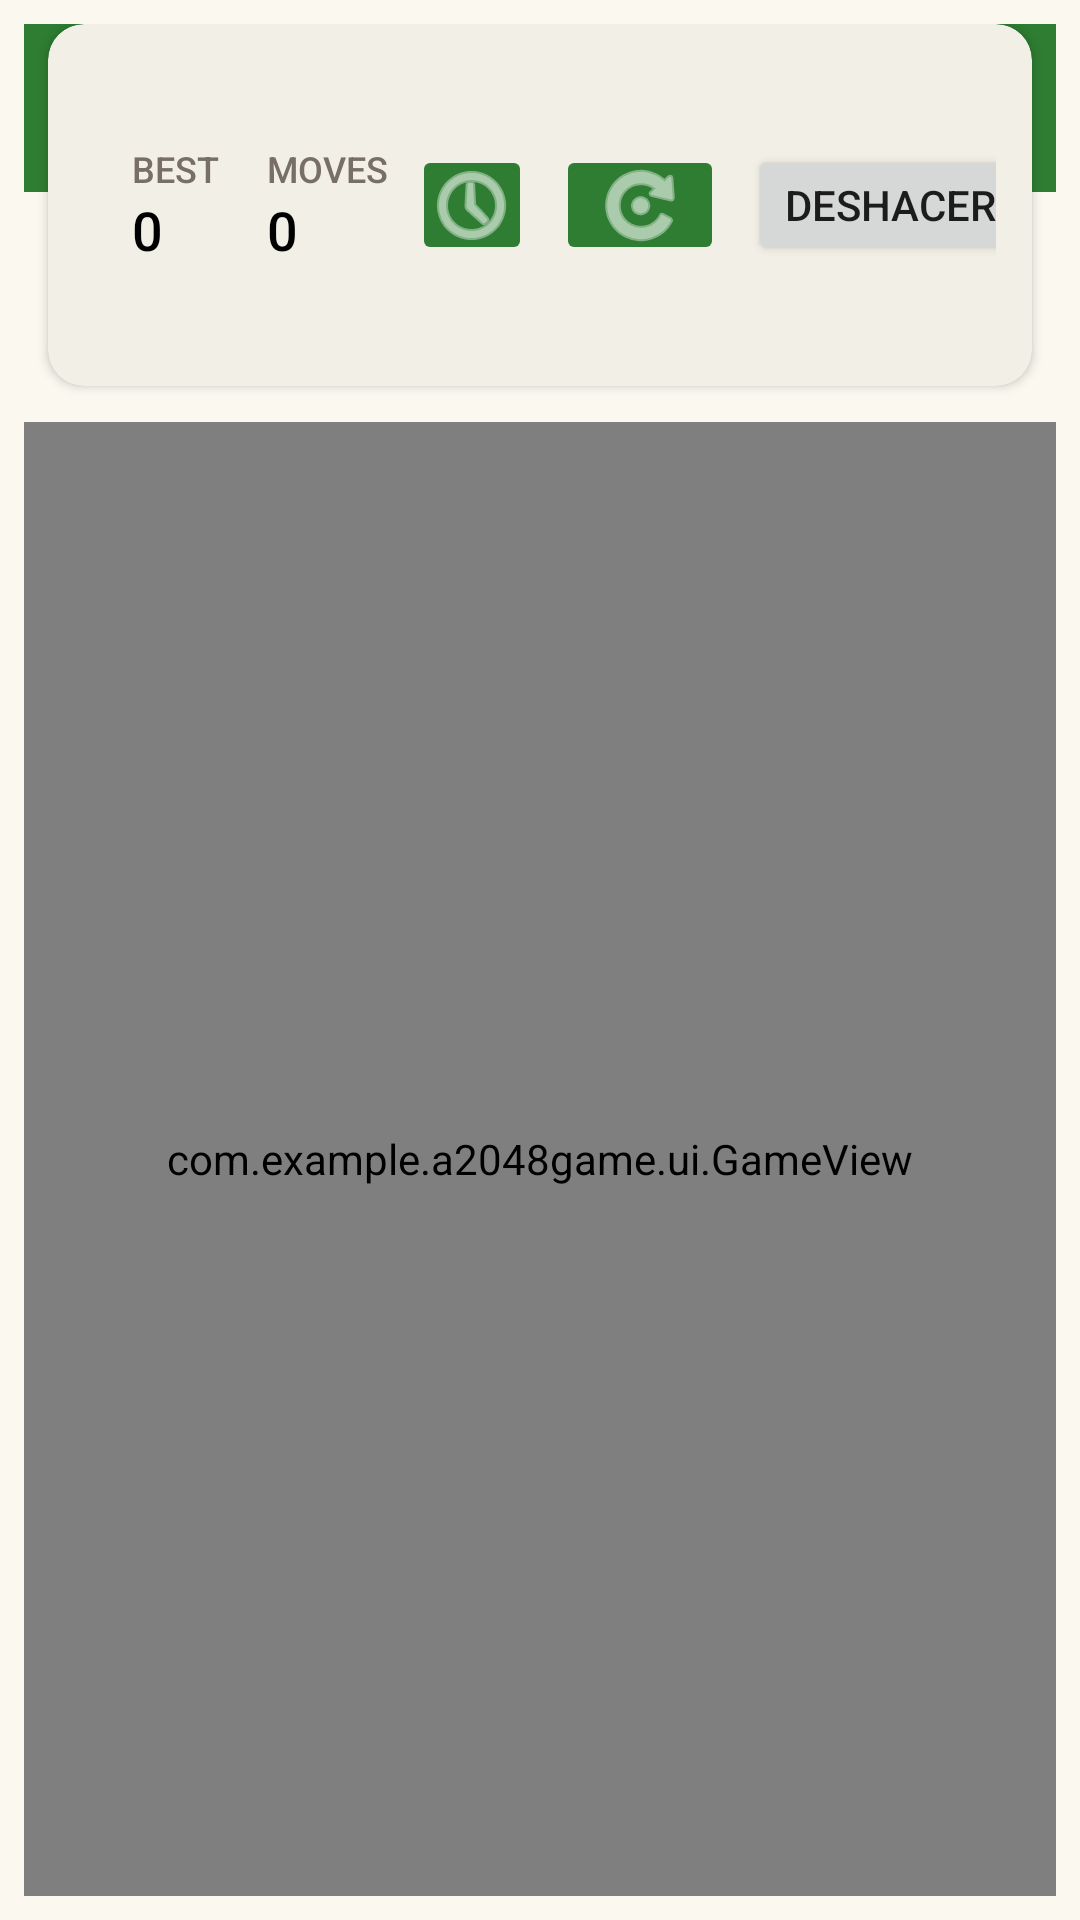

Screen size 1080x1920. Icon name, then its center in pixels as point (x, y):
Reiniciar: point (640, 205)
Última partida: point (472, 205)
